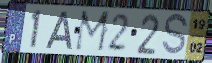1: (30, 8, 44, 49)
2: (136, 12, 161, 57), (106, 12, 131, 52)
A: (44, 10, 74, 51)
M: (73, 9, 113, 54)
S: (160, 12, 189, 58)
